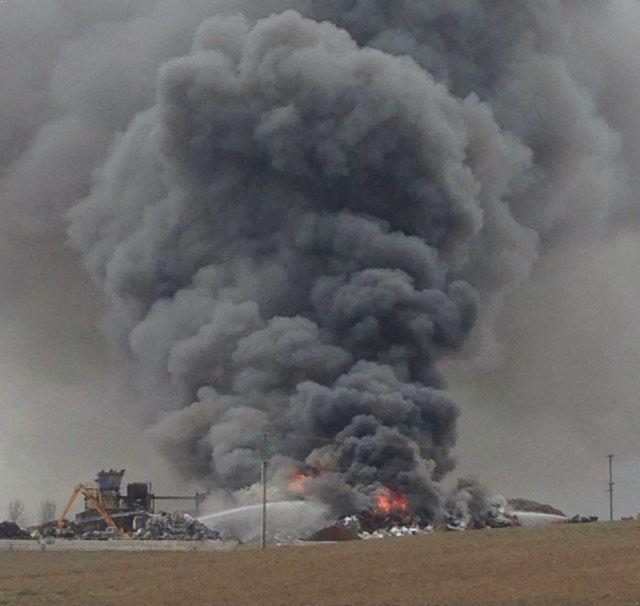fire: (370, 488, 410, 518), (285, 471, 308, 495)
